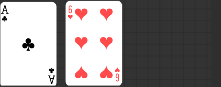4H: (113, 66, 120, 82)
AC: (0, 4, 9, 22)
